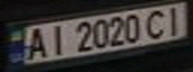0: (121, 11, 145, 43), (90, 16, 112, 50)
2: (69, 19, 97, 53), (106, 14, 127, 47)
A: (18, 25, 51, 61)
C: (142, 7, 172, 39)
I: (42, 22, 72, 56), (160, 3, 190, 36)
